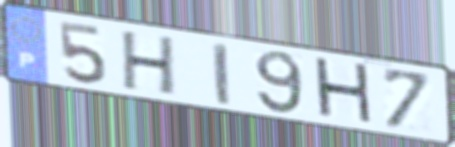5: (56, 18, 110, 86)
7: (380, 65, 435, 132)
9: (250, 49, 306, 116)
H: (311, 54, 377, 130), (120, 29, 178, 99)
I: (209, 40, 234, 108)
